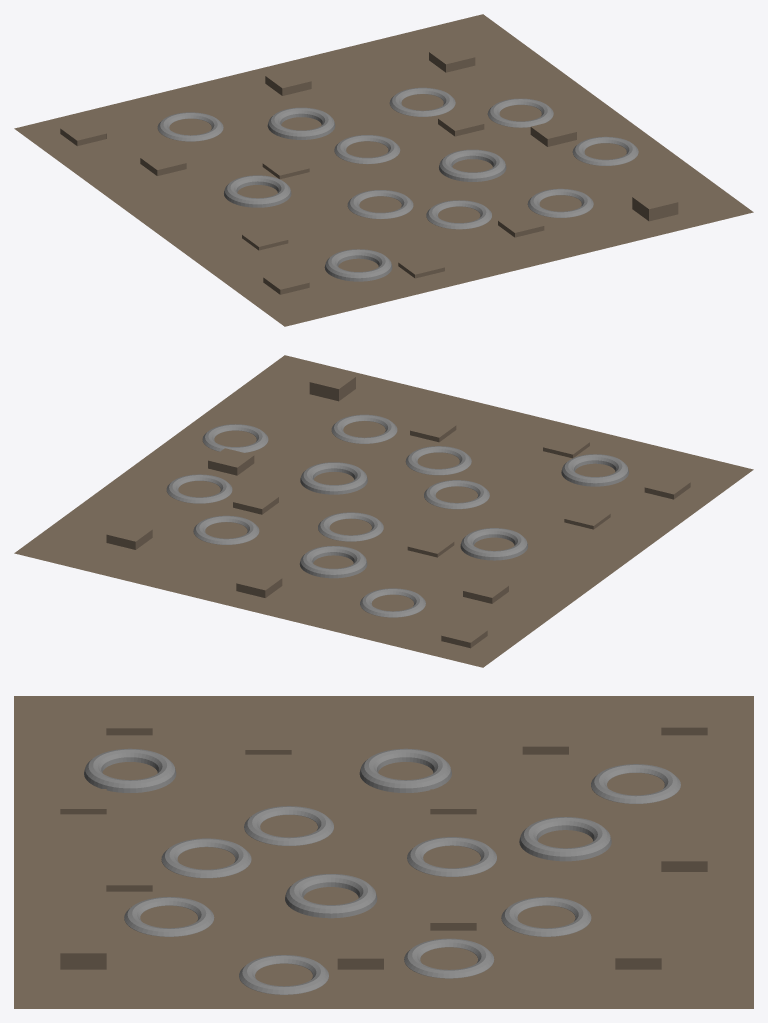
Rendered from TrapOff.fbx.
3 views of the same model, one above another, from view 1: azimuth 30°, elevation 25°; view 2: azimuth 150°, elevation 25°; view 3: azimuth 270°, elevation 25° (orthographic). The views are drawn at different scales.
Visible parts, largest first — view 1: TrapOff; view 2: TrapOff; view 3: TrapOff.
Boxes of the visible parts, x1,y1,x2,y2 form: TrapOff: (14, 14, 753, 326); TrapOff: (14, 355, 753, 667); TrapOff: (14, 696, 753, 1008).
Size of the model in its own units: 2 by 0.0861 by 2.
